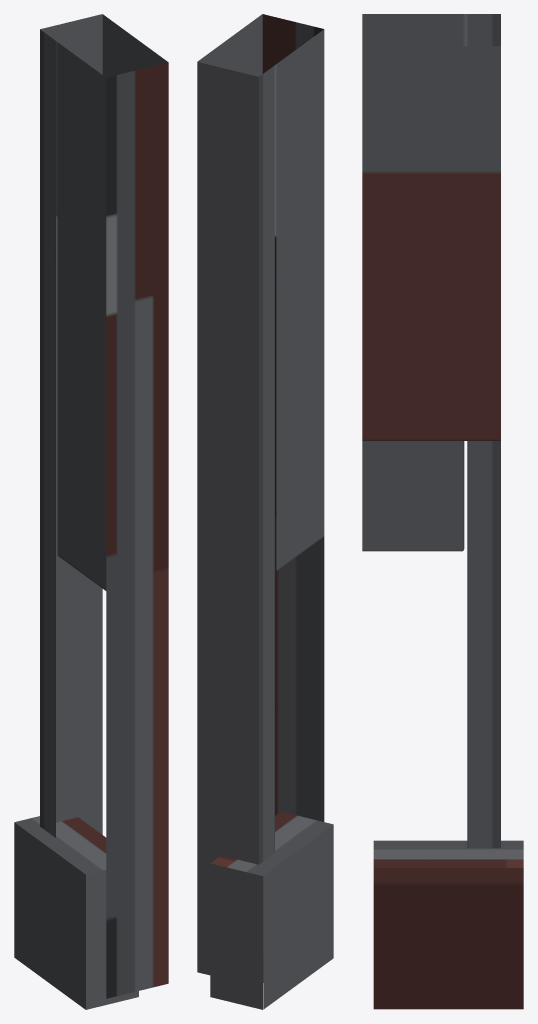
The model's file is section-0.obj.
3 renders of one model, left to right at view 1: azimuth 30°, elevation 25°; view 2: azimuth 150°, elevation 25°; view 3: azimuth 270°, elevation 25°, orthographic. The views are drawn at different scales.
Size of the model in its own units: 0.083 by 0.9544 by 0.1428.
